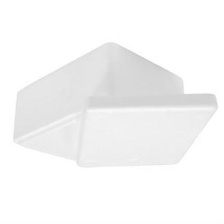foam_box: (7, 39, 222, 175)
